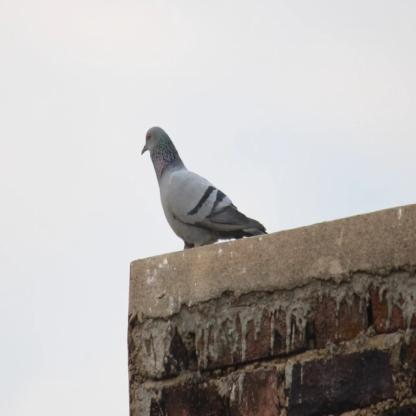Flying Rat: (139, 119, 265, 250)
